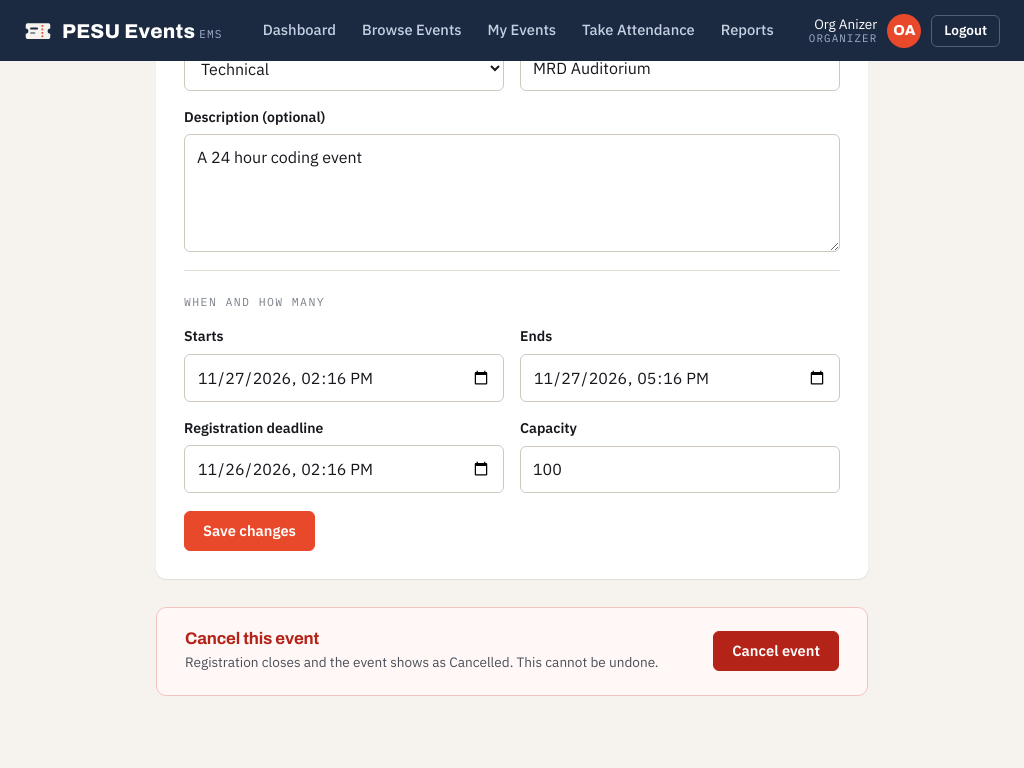
Test: Edit Event › TC-EVENT-05: cancelling asks first, then cancels and returns to My Events
(page scrolled)
Step 1. Click the button "Cancel event" → (776, 651), box [713,631,839,671]
(page scrolled)
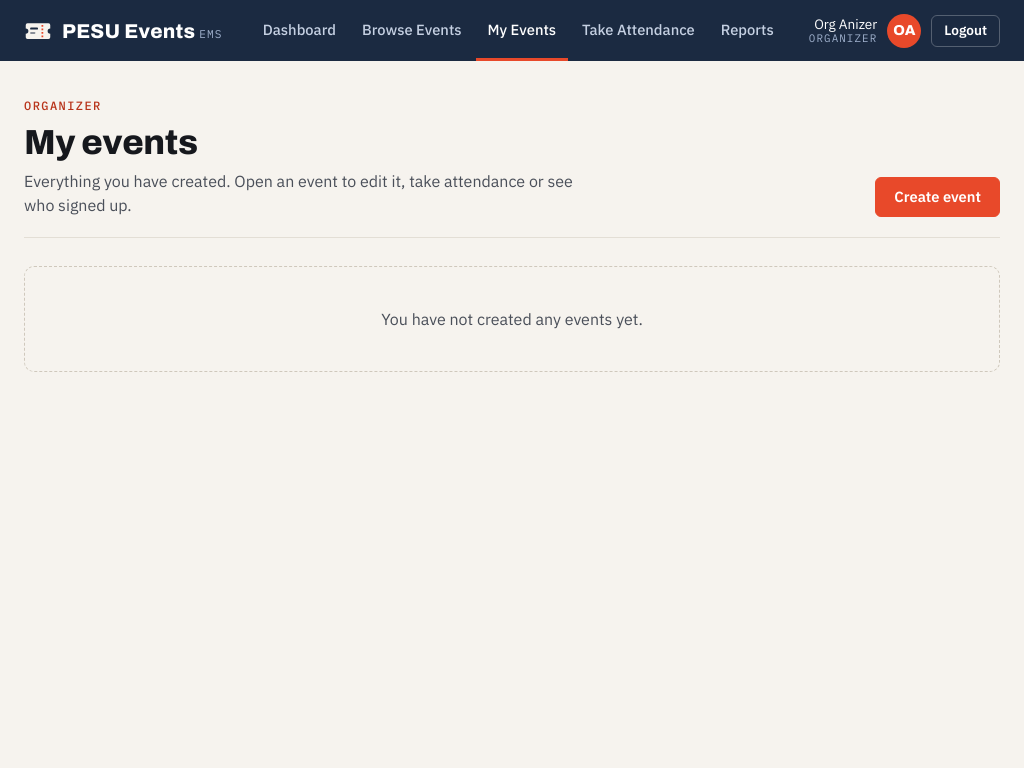
Now the heading "My events" is shown, box [24,123,198,161]
